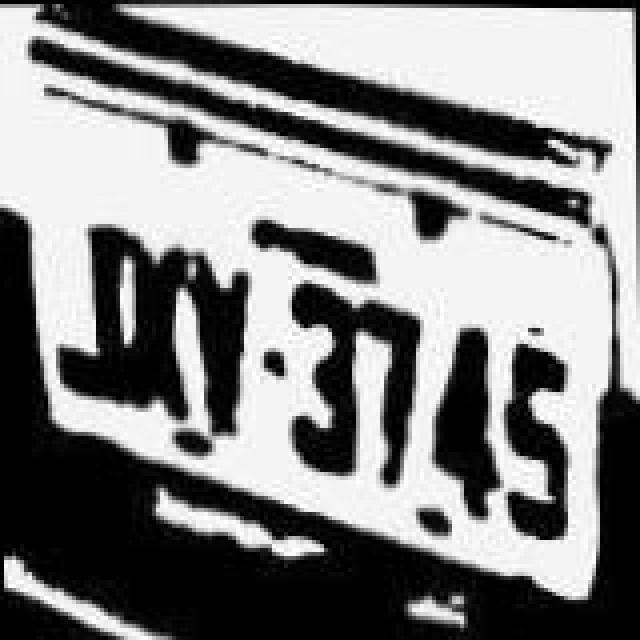3: (286, 282, 366, 494)
4: (430, 286, 502, 522)
5: (500, 332, 576, 560)
7: (358, 286, 430, 502)
J: (50, 174, 126, 406)
V: (194, 248, 262, 432)
X: (126, 226, 194, 422)
